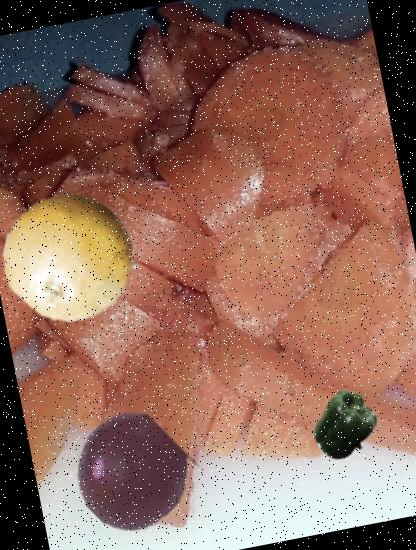Grapefruit: (0, 178, 150, 337)
Pepper: (304, 385, 383, 464)
Redcurrant: (66, 407, 196, 537)
